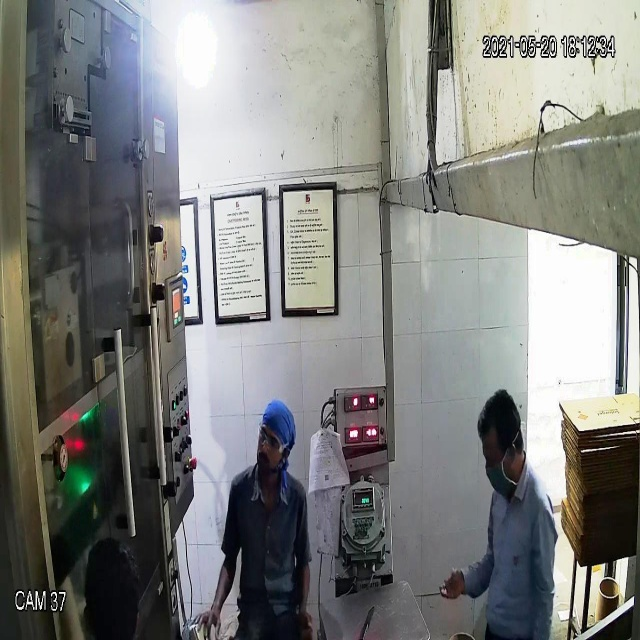Gafas: (253, 421, 288, 458)
